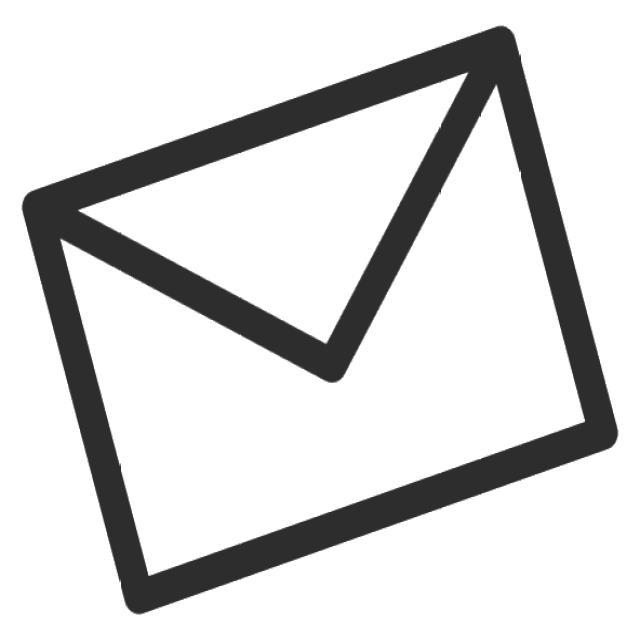letter: (15, 20, 626, 630)
